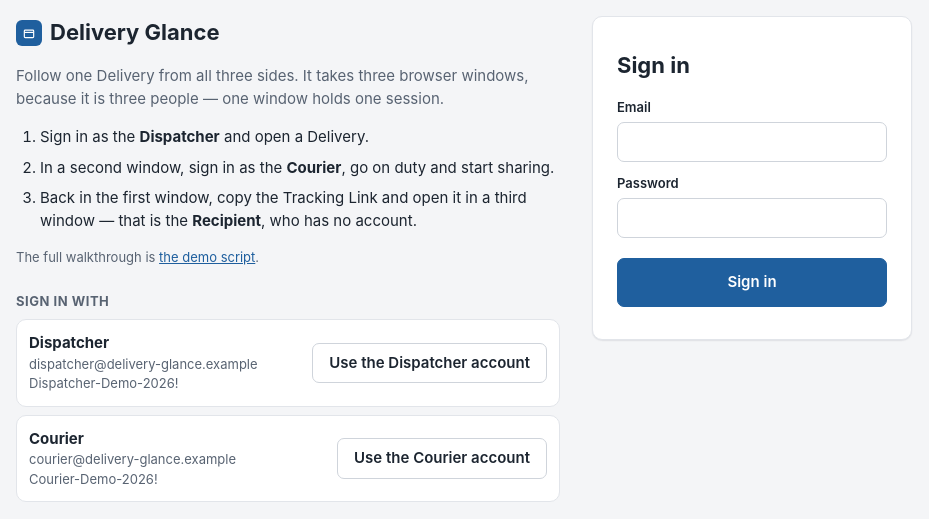
SignInPage › fills the form from the account a button offers
Click the button "Use the Courier account" at (442, 459), box top-left (337, 438), bottom-right (547, 479)
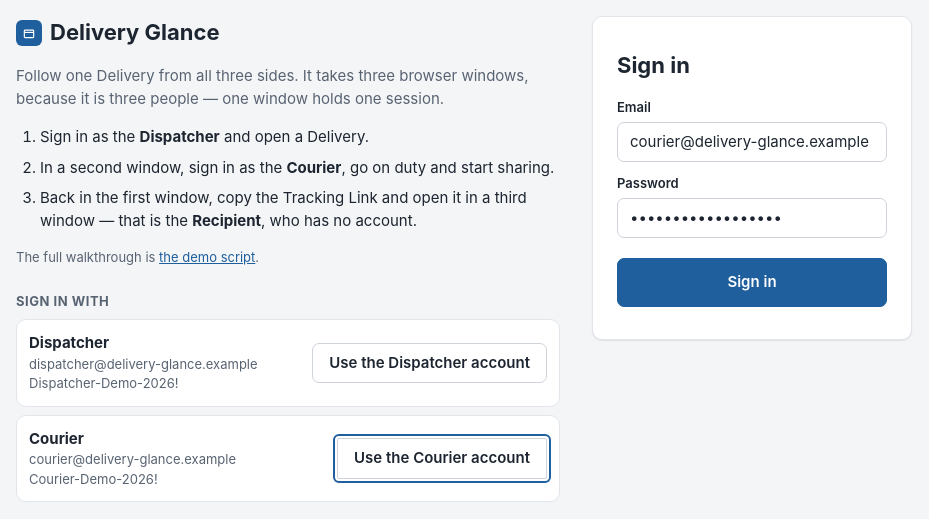
Result: the field labelled "Email" holds "courier@delivery-glance.example" at top-left (617, 122), bottom-right (887, 162)
Result: the password field labelled "Password" holds "Courier-Demo-2026!" at top-left (617, 198), bottom-right (887, 238)
